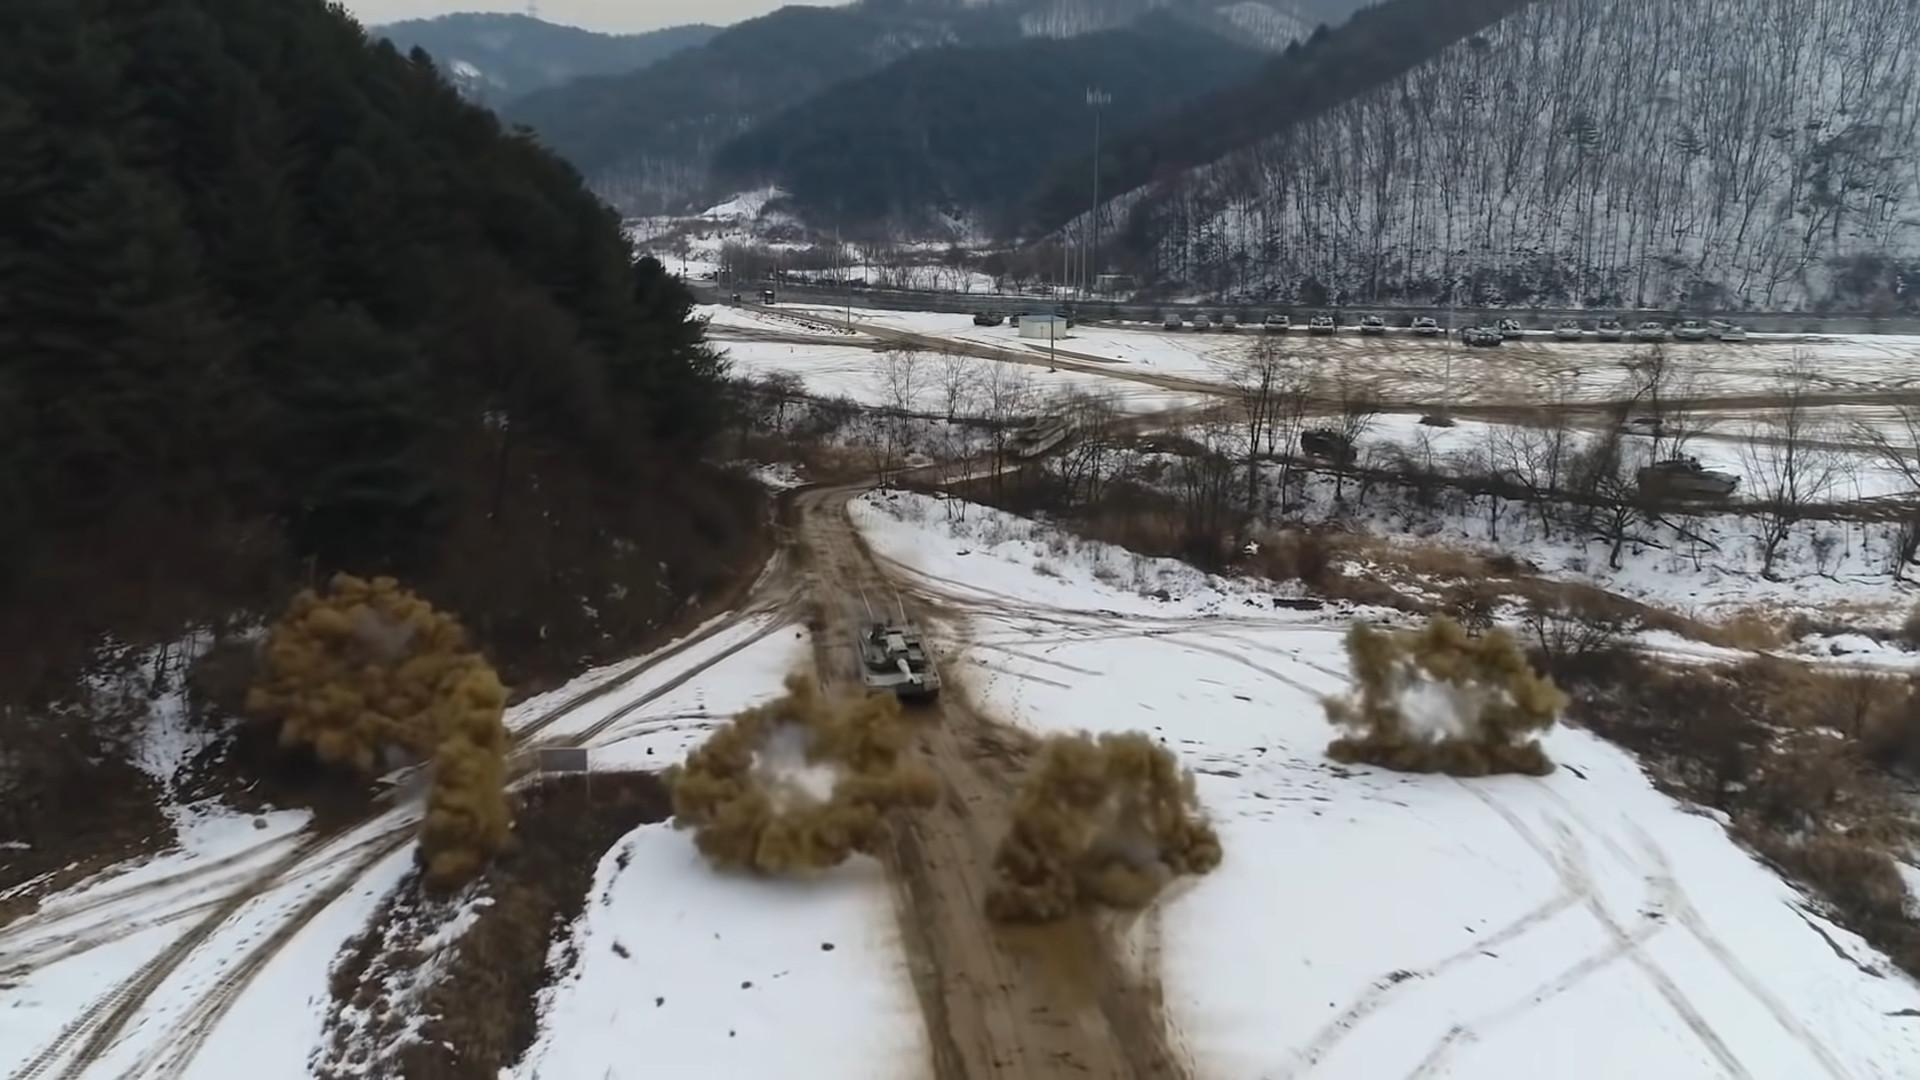tank: (857, 622, 940, 705)
